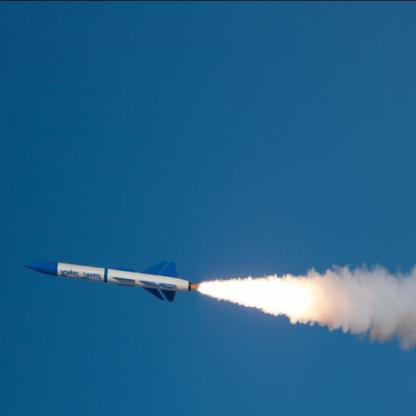MIL_TBM: (23, 260, 193, 301)
